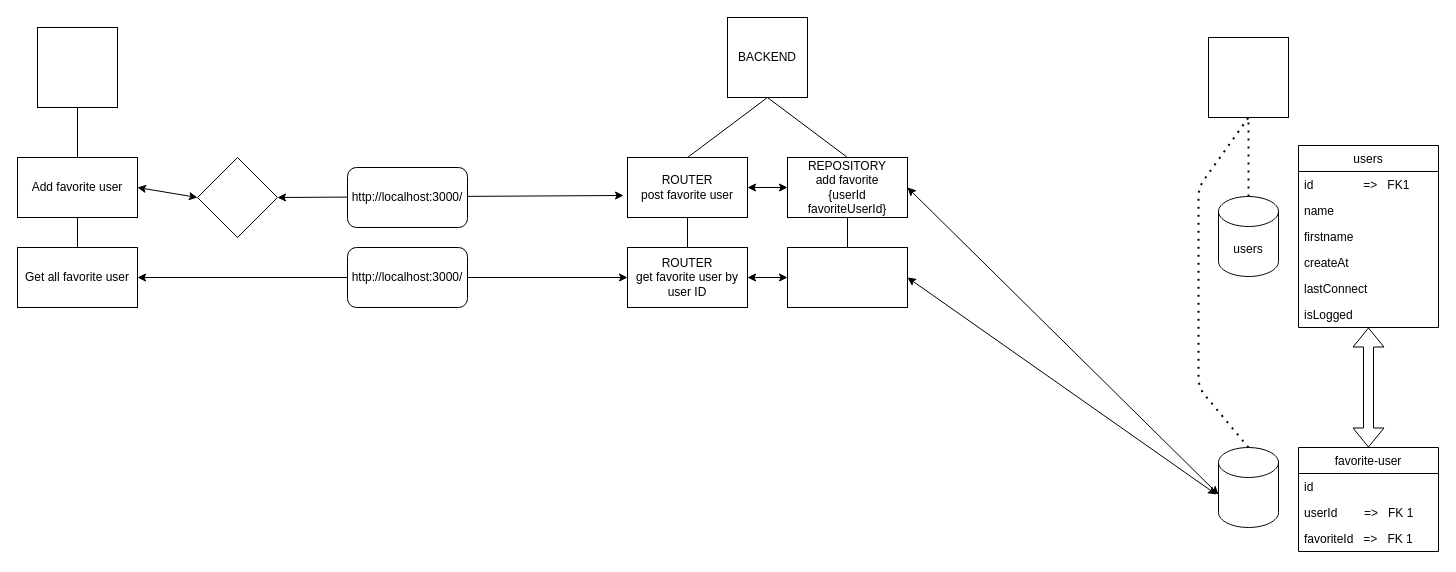
This 1456x572 diagram has some shape labels left out. Here are the shapes that lost their labels. From the top down, the centre of each, then its label:
At (x=77, y=67): "API SKILLS".
At (x=1248, y=77): "SQL".
At (x=237, y=197): "Service add".
At (x=847, y=277): "REPOSITORY get favorite join user where favorite userId".
At (x=1248, y=487): "favUser".
